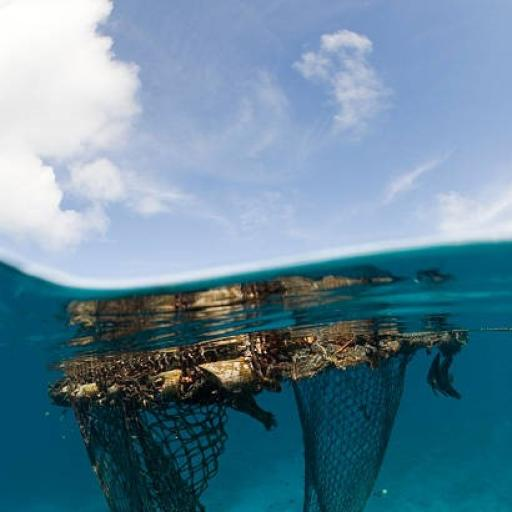net: (46, 328, 468, 512)
